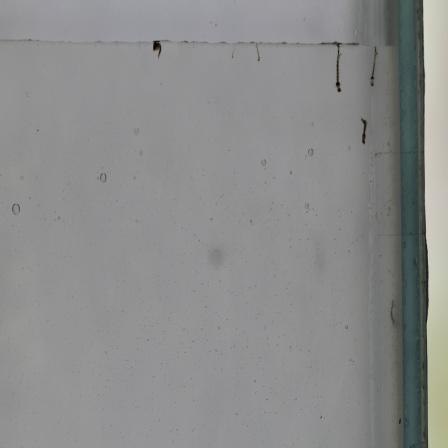Jentik-Nyamuk: (330, 42, 347, 97), (363, 43, 382, 92), (357, 114, 372, 150), (148, 37, 165, 62), (253, 42, 263, 63)
